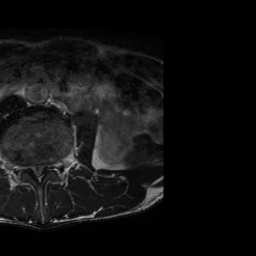CCS_stenosis: (35, 158, 41, 187)
LFS_severe_stenosis: (49, 156, 55, 177)
LLS_severe_stenosis: (41, 159, 48, 176)
RFS_severe_stenosis: (22, 158, 29, 176)
RLS_severe_stenosis: (29, 159, 35, 181)
